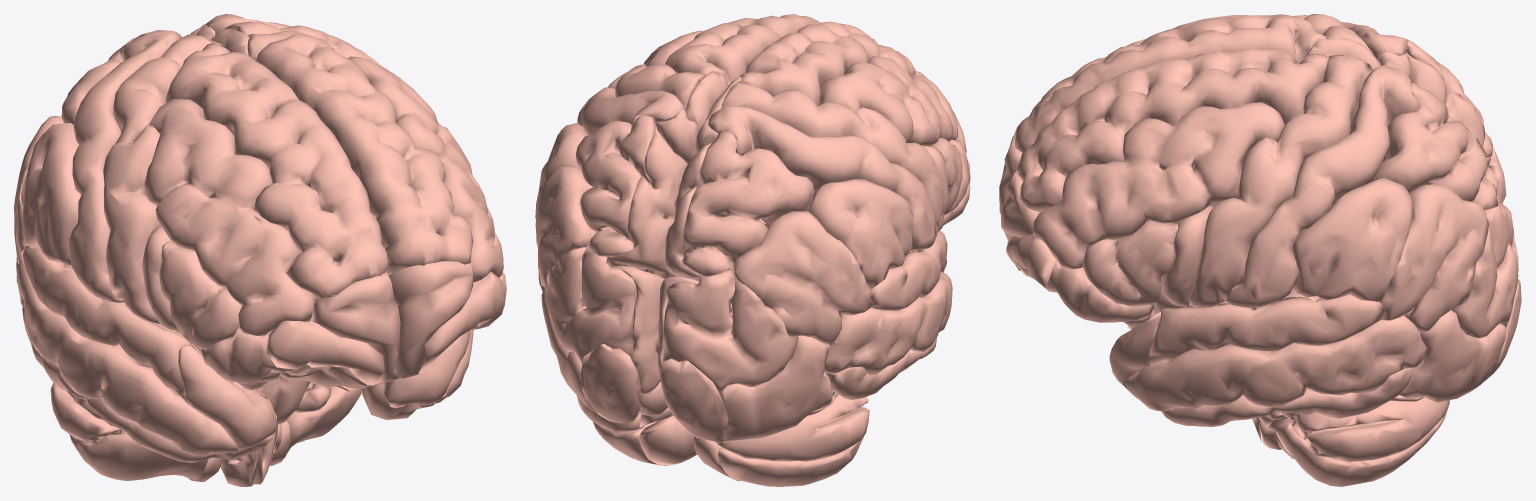
The model's file is 3d-allen-f-brain_lod_20.glb.
3 renders of one model, left to right at view 1: azimuth 30°, elevation 25°; view 2: azimuth 150°, elevation 25°; view 3: azimuth 270°, elevation 25°, orthographic. The views are drawn at different scales.
Visible parts, largest first — view 1: Allen_superior_frontal_gyrus_L, Allen_middle_frontal_gyrus_L, Allen_superior_frontal_gyrus_R, Allen_middle_temporal_gyrus_L, Allen_primary_motor_cortex_L, Allen_postcentral_gyrus_L, Allen_superior_temporal_gyrus_L, Allen_middle_frontal_gyrus_R, Allen_supramarginal_gyrus_L, Allen_rostral_gyrus_R, Allen_lateral_hemisphere_of_cerebellum_L, Allen_inferior_frontal_gyrus_triangular_part_L (+19 smaller); view 2: Allen_angular_gyrus_L, Allen_supraparietal_lobule_L, Allen_superior_occipital_gyrus_L, Allen_postcentral_gyrus_L, Allen_lateral_hemisphere_of_cerebellum_L, Allen_superior_occipital_gyrus_R, Allen_supraparietal_lobule_R, Allen_primary_motor_cortex_L, Allen_supramarginal_gyrus_L, Allen_middle_frontal_gyrus_L, Allen_superior_frontal_gyrus_L, Allen_inferior_occipital_gyrus_L (+24 smaller); view 3: Allen_middle_frontal_gyrus_R, Allen_superior_frontal_gyrus_R, Allen_middle_temporal_gyrus_R, Allen_primary_motor_cortex_R, Allen_postcentral_gyrus_R, Allen_supramarginal_gyrus_R, Allen_angular_gyrus_R, Allen_superior_temporal_gyrus_R, Allen_lateral_hemisphere_of_cerebellum_R, Allen_superior_frontal_gyrus_L, Allen_supraparietal_lobule_R, Allen_inferior_frontal_gyrus_triangular_part_R (+16 smaller).
Boxes of the visible parts, bbox=[...] form: Allen_superior_frontal_gyrus_L: bbox=[165, 43, 388, 301]; Allen_middle_frontal_gyrus_L: bbox=[144, 99, 316, 335]; Allen_superior_frontal_gyrus_R: bbox=[247, 31, 473, 273]; Allen_middle_temporal_gyrus_L: bbox=[16, 260, 239, 455]; Allen_primary_motor_cortex_L: bbox=[103, 34, 211, 324]; Allen_postcentral_gyrus_L: bbox=[68, 30, 181, 302]; Allen_superior_temporal_gyrus_L: bbox=[21, 246, 195, 405]; Allen_middle_frontal_gyrus_R: bbox=[348, 56, 503, 282]; Allen_supramarginal_gyrus_L: bbox=[21, 123, 81, 265]; Allen_rostral_gyrus_R: bbox=[388, 260, 473, 378]; Allen_lateral_hemisphere_of_cerebellum_L: bbox=[50, 382, 208, 480]; Allen_inferior_frontal_gyrus_triangular_part_L: bbox=[159, 241, 241, 350]; Allen_angular_gyrus_L: bbox=[734, 211, 871, 343]; Allen_supraparietal_lobule_L: bbox=[681, 131, 814, 276]; Allen_superior_occipital_gyrus_L: bbox=[662, 269, 798, 394]; Allen_postcentral_gyrus_L: bbox=[708, 106, 938, 251]; Allen_lateral_hemisphere_of_cerebellum_L: bbox=[717, 394, 869, 486]; Allen_superior_occipital_gyrus_R: bbox=[546, 245, 637, 365]; Allen_supraparietal_lobule_R: bbox=[575, 114, 655, 256]; Allen_primary_motor_cortex_L: bbox=[721, 81, 944, 231]; Allen_supramarginal_gyrus_L: bbox=[808, 179, 913, 289]; Allen_middle_frontal_gyrus_L: bbox=[819, 56, 966, 152]; Allen_superior_frontal_gyrus_L: bbox=[740, 21, 926, 106]; Allen_inferior_occipital_gyrus_L: bbox=[720, 335, 837, 442]; Allen_middle_frontal_gyrus_R: bbox=[1033, 102, 1284, 269]; Allen_superior_frontal_gyrus_R: bbox=[1017, 48, 1328, 212]; Allen_middle_temporal_gyrus_R: bbox=[1122, 315, 1425, 411]; Allen_primary_motor_cortex_R: bbox=[1188, 55, 1372, 307]; Allen_postcentral_gyrus_R: bbox=[1225, 65, 1420, 307]; Allen_supramarginal_gyrus_R: bbox=[1291, 178, 1413, 301]; Allen_angular_gyrus_R: bbox=[1380, 184, 1488, 332]; Allen_superior_temporal_gyrus_R: bbox=[1149, 294, 1386, 365]; Allen_lateral_hemisphere_of_cerebellum_R: bbox=[1268, 397, 1449, 486]; Allen_superior_frontal_gyrus_L: bbox=[1014, 14, 1326, 152]; Allen_supraparietal_lobule_R: bbox=[1371, 82, 1497, 209]; Allen_inferior_frontal_gyrus_triangular_part_R: bbox=[1082, 220, 1177, 306].
Size of the model in its own units: 0.136 by 0.1458 by 0.167.
